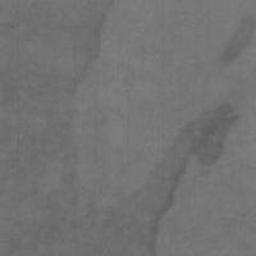Water spot: (0, 0, 242, 256), (218, 14, 256, 65)
